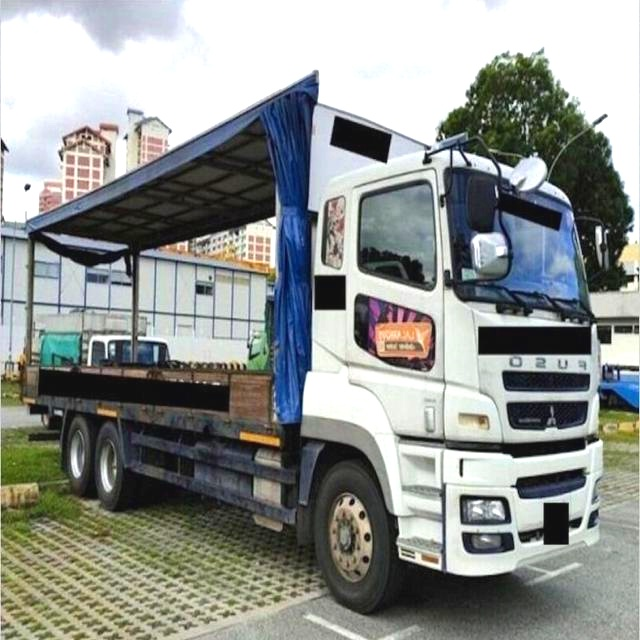truck: (19, 44, 618, 620)
